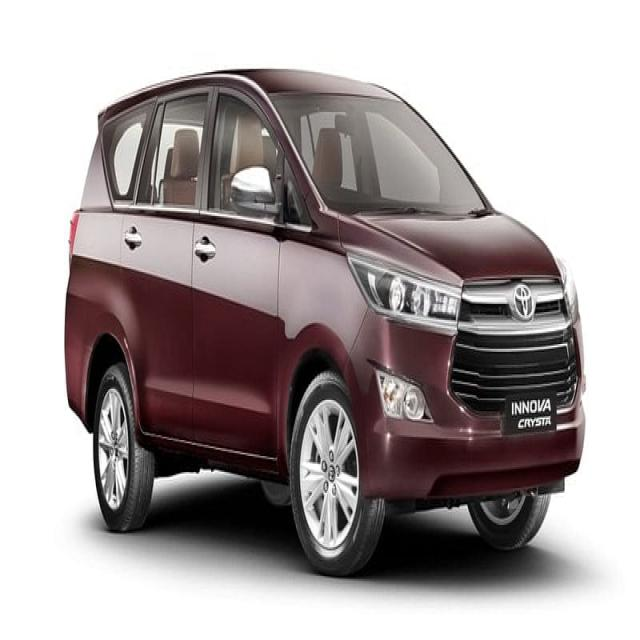light_vehicle: (64, 67, 587, 578)
